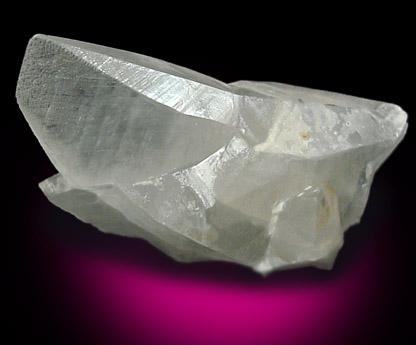calcite: (16, 35, 408, 274)
